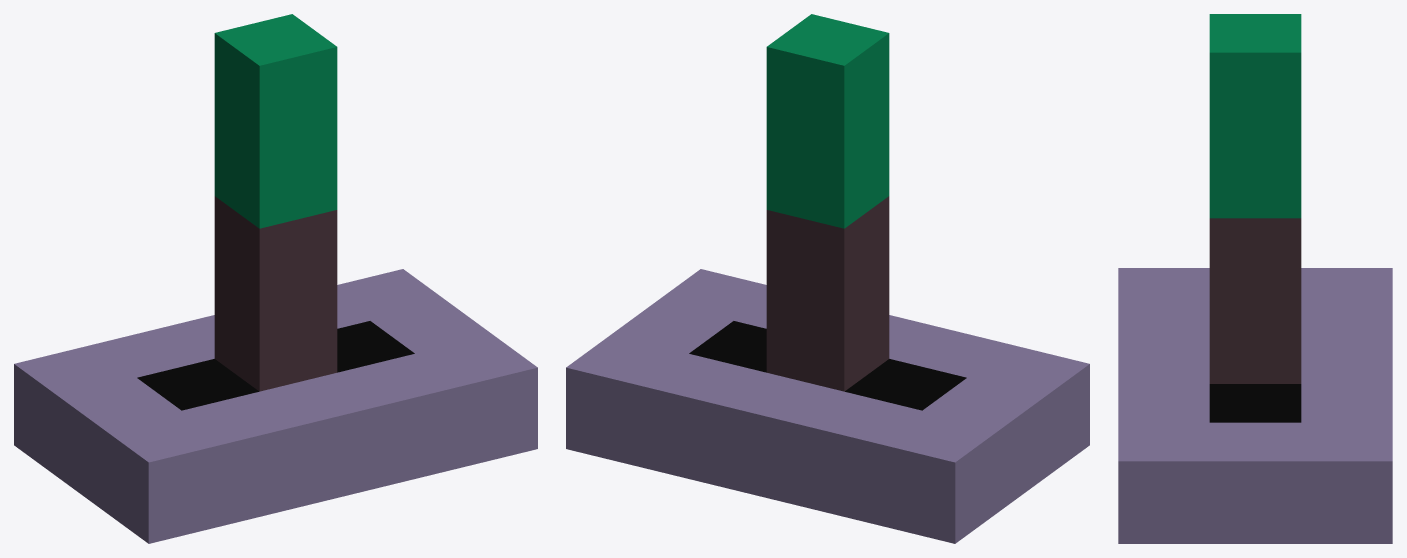
The model's file is lever_a_b_green_off.obj.
3 views of the same model, side by side, from view 1: azimuth 30°, elevation 25°; view 2: azimuth 150°, elevation 25°; view 3: azimuth 270°, elevation 25° (orthographic).
Size of the model in its own units: 0.5 by 0.5 by 0.3.
1 material, 1 textured.
